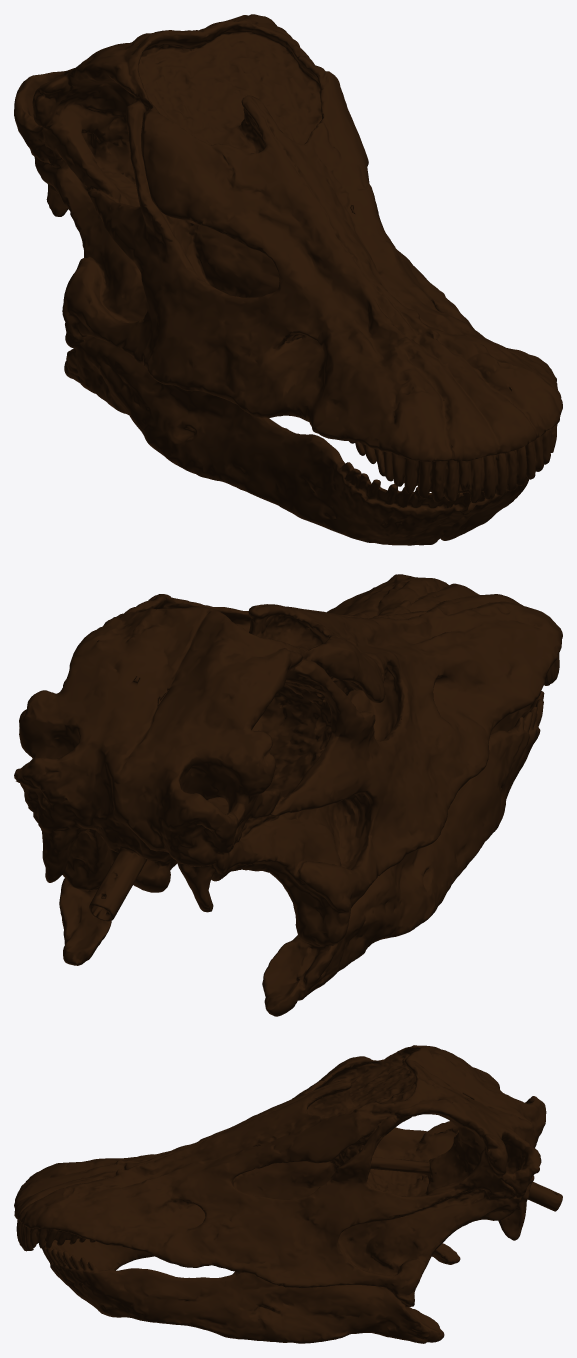
Rendered from Fossiil.gltf.
3 views of the same model, one above another, from view 1: azimuth 30°, elevation 25°; view 2: azimuth 150°, elevation 25°; view 3: azimuth 270°, elevation 25° (orthographic). The views are drawn at different scales.
Parts seen in each view (by area): view 1: Object_2, Object_3; view 2: Object_2, Object_3; view 3: Object_2, Object_3.
Boxes of the visible parts, x1=… form: Object_2: x1=62, y1=14, x2=562, y2=545; Object_3: x1=14, y1=15, x2=456, y2=507; Object_2: x1=14, y1=574, x2=562, y2=1016; Object_3: x1=16, y1=594, x2=489, y2=1015; Object_2: x1=14, y1=1045, x2=541, y2=1343; Object_3: x1=149, y1=1045, x2=562, y2=1342.
Size of the model in its own units: 0.5705 by 0.662 by 1.35.
